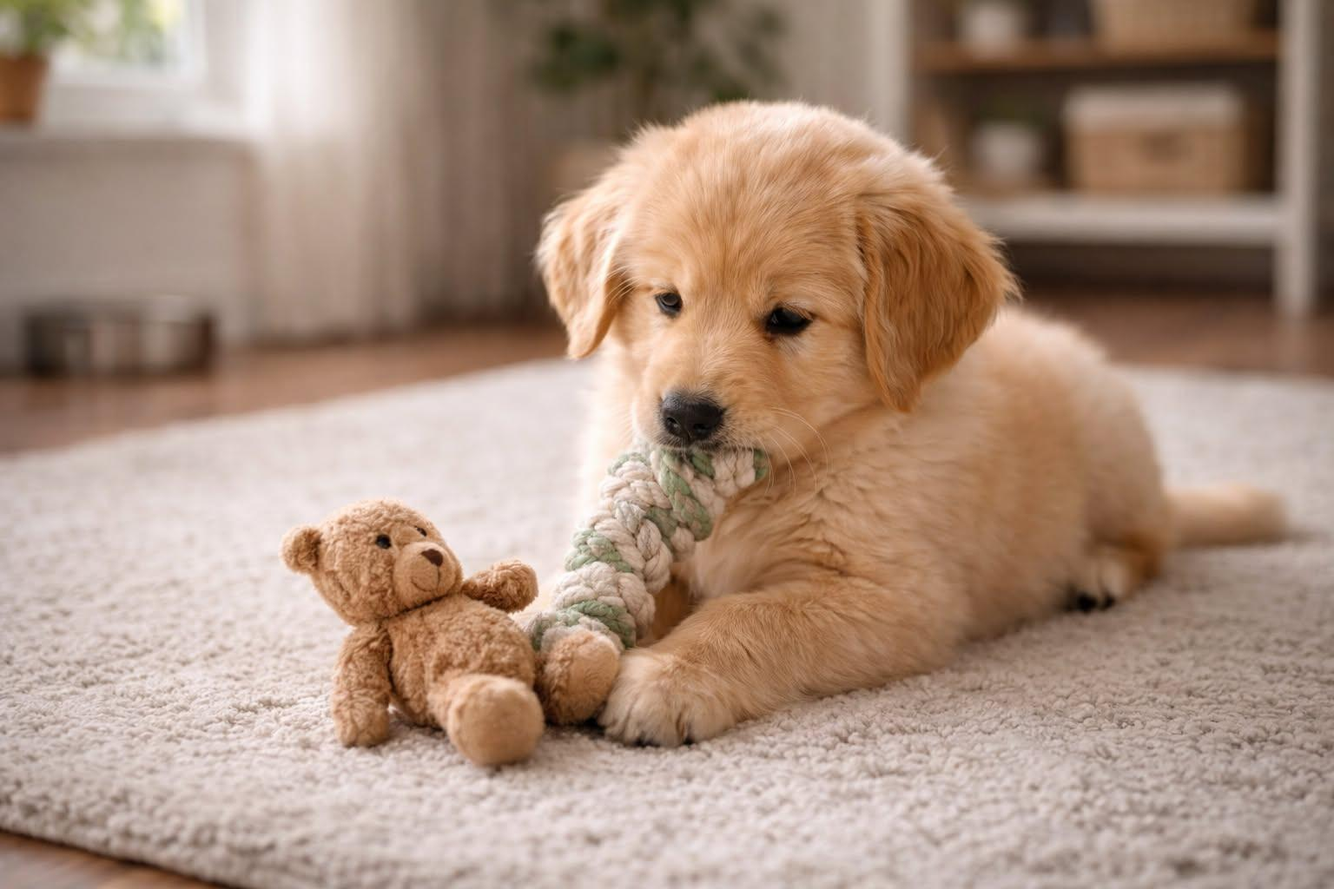non-dog: (280, 498, 624, 772)
puppy-dog: (532, 95, 1303, 752)
